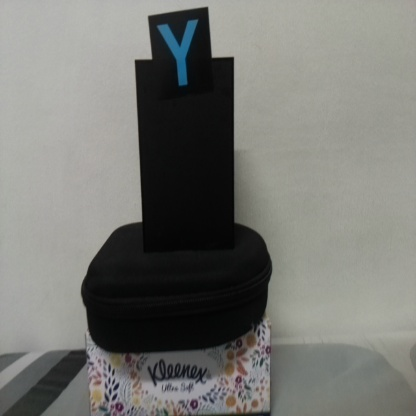id_14: (148, 14, 212, 93)
